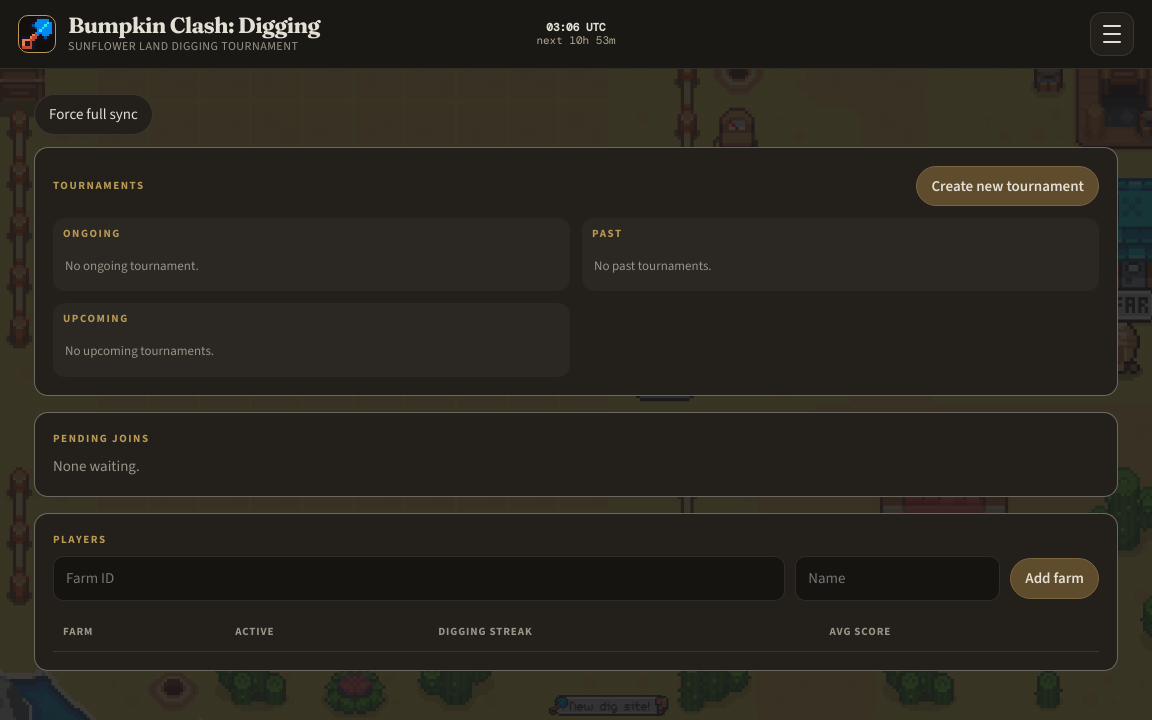
it: AdminPage › sits Force full sync below the header on the authed dashboard
Expected: the button with test id "admin-force-sync" reads "Force full sync", x1=34 y1=94 x2=153 y2=134
Click the button named "Menu".
click(1112, 34)  # box x1=1090 y1=12 x2=1134 y2=56
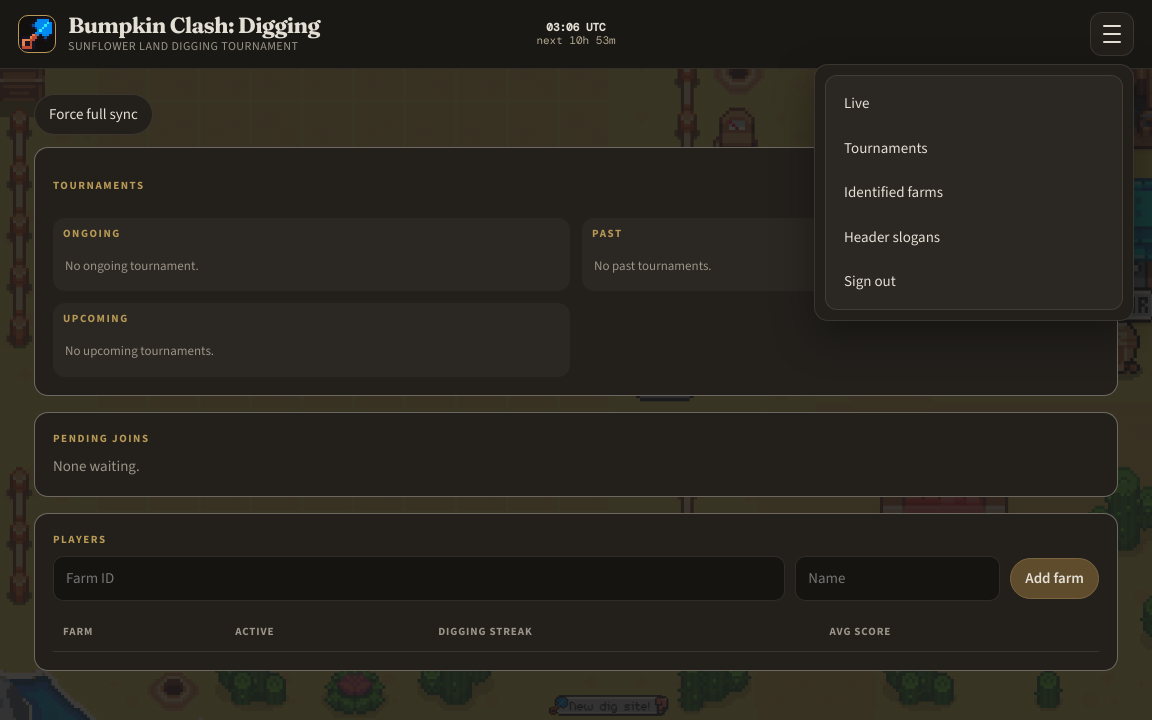
Expected: the element with class "shell" does not show "Identified farms"
Expected: the menu item with test id "admin-sign-out" reads "Sign out", x1=832 y1=260 x2=1116 y2=302
Expected: the menu item with test id "admin-menu-identities" reads "Identified farms"
Click the menu item with test id "admin-menu-identities".
click(894, 192)  # box x1=832 y1=171 x2=1116 y2=214
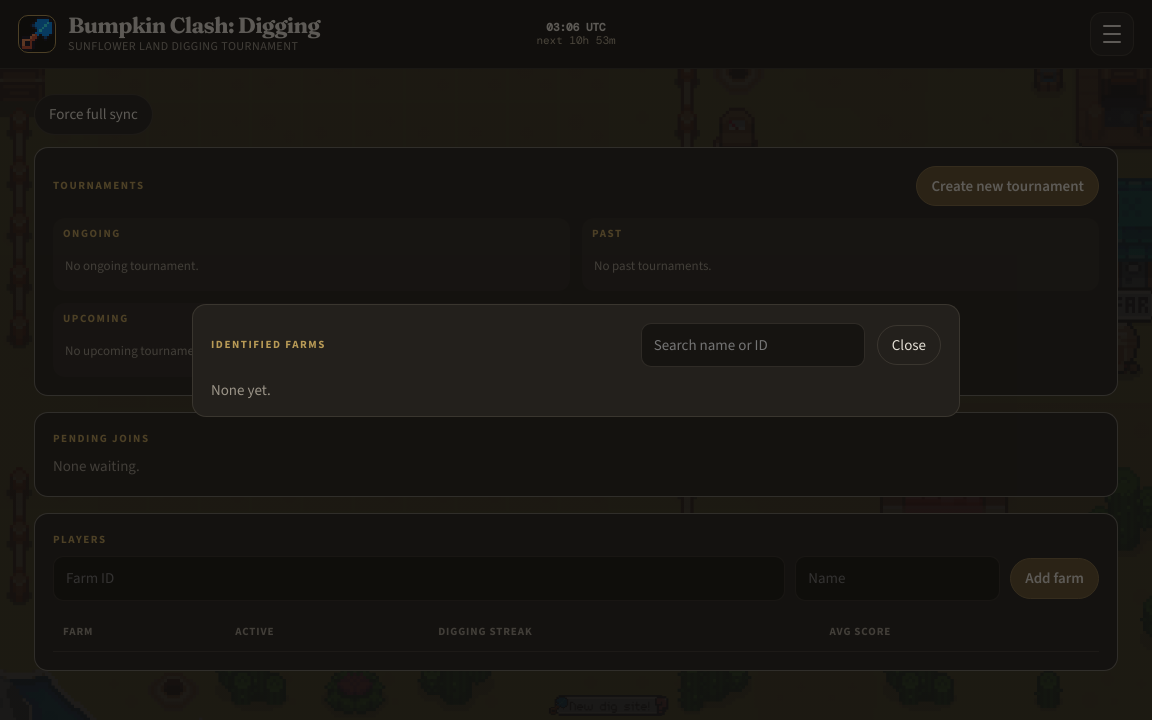
Expected: the dialog with test id "identified-farms-overlay" shows "Identified farms", x1=211 y1=336 x2=326 y2=352
